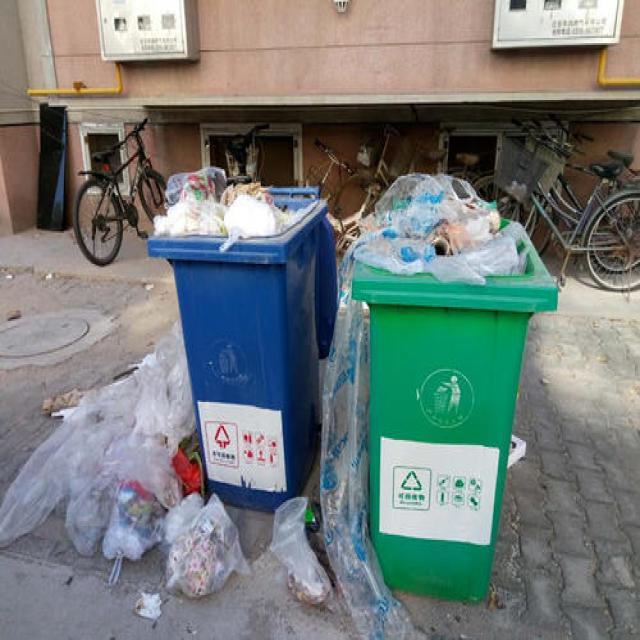garbage: (0, 319, 250, 621), (269, 298, 421, 638)
overflow: (351, 173, 557, 602), (147, 164, 336, 509)
